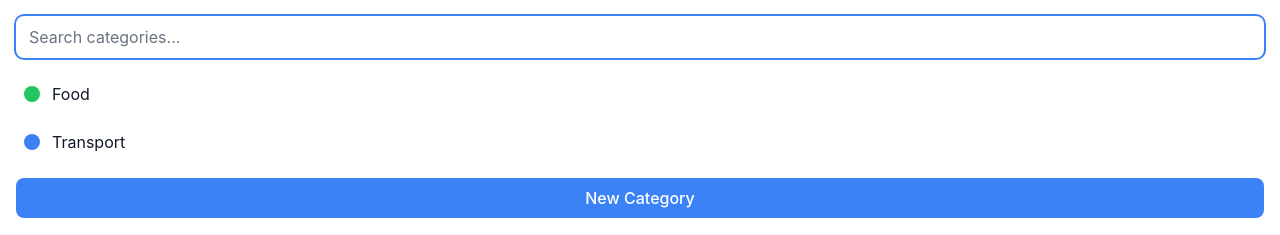
Scenario: CategoriesPage › search › filters categories by search query
This screenshot has width=1280, height=235.
Expected: the text "Food" is shown, [52,84,90,104]
Step 1. Type "foo" into the field with placeholder "Search categories..." → (640, 37), box [16,16,1264,58]
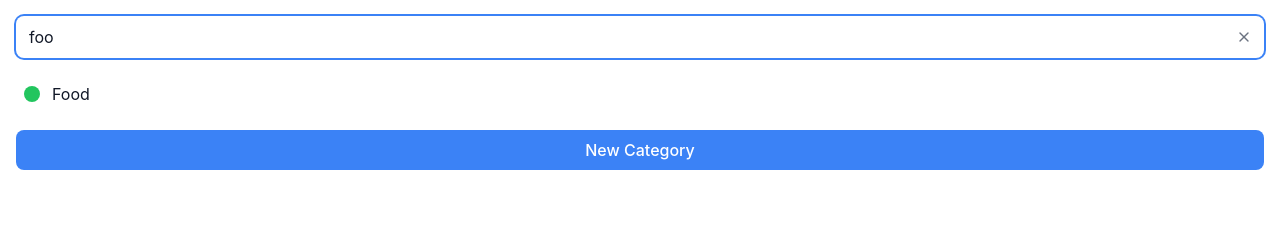
Expected: the text "Food" is shown, [52,84,90,104]
Now the button "Transport" is gone
